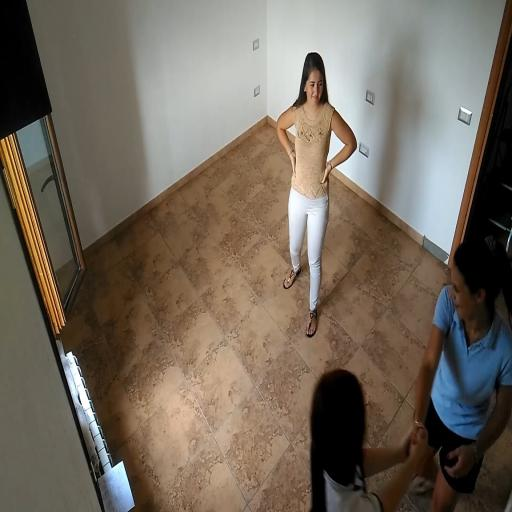nao-violencia: (293, 228, 511, 512)
